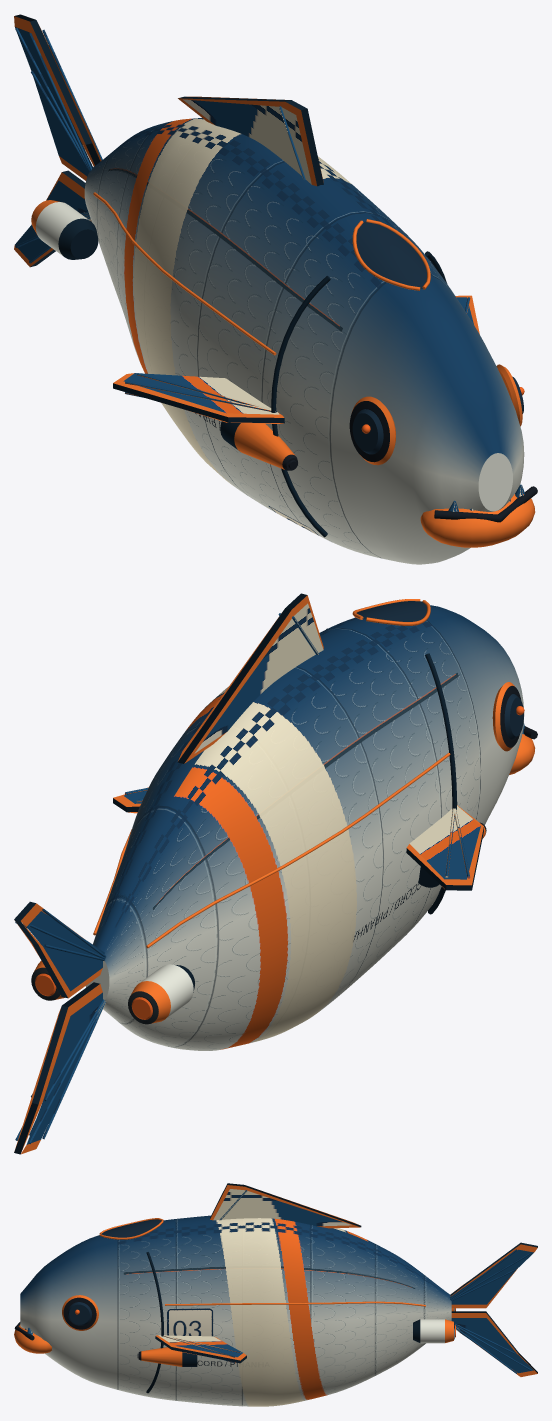
3 views of the same model, one above another, from view 1: azimuth 30°, elevation 25°; view 2: azimuth 150°, elevation 25°; view 3: azimuth 270°, elevation 25° (orthographic). The views are drawn at different scales.
Parts seen in each view (by area): view 1: piranha_hull; view 2: piranha_hull; view 3: piranha_hull.
Part boxes in pixels (<box>): piranha_hull: <box>14,14,537,564</box>; piranha_hull: <box>14,593,537,1154</box>; piranha_hull: <box>14,1183,537,1406</box>.
Size of the model in its own units: 6.42 by 6.94 by 15.
Materials: 1 (1 with a texture image).
